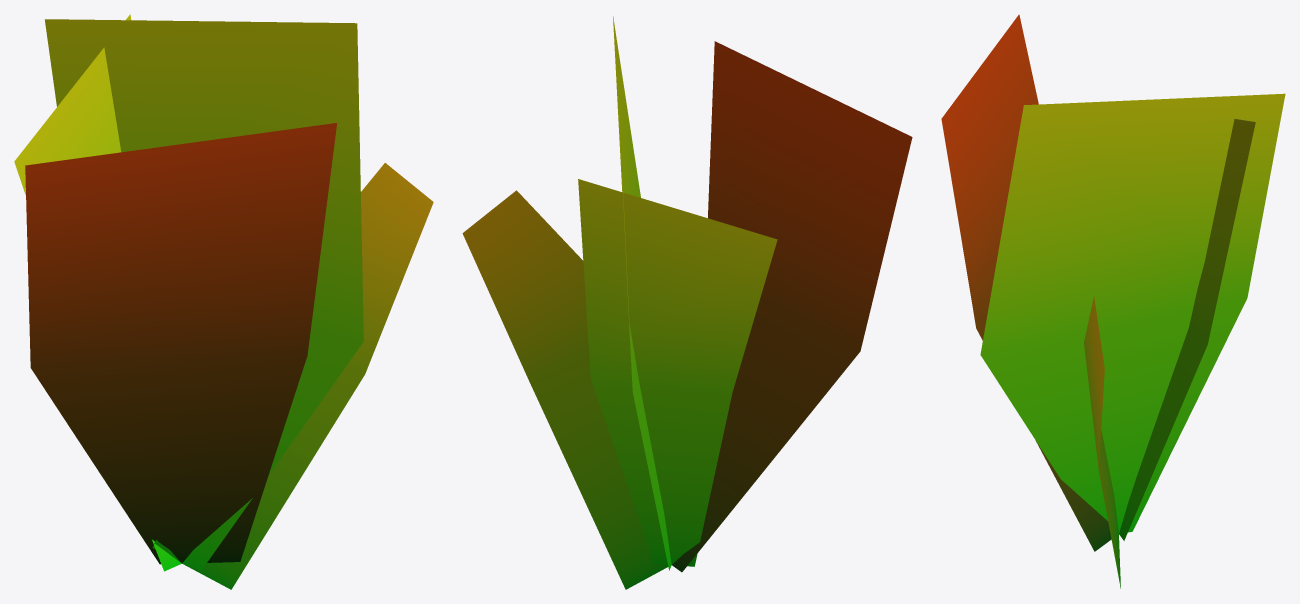
Rendered from Ocean Seaweed_LOD1_Var4_sdDgS.fbx.
3 views of the same model, side by side, from view 1: azimuth 30°, elevation 25°; view 2: azimuth 150°, elevation 25°; view 3: azimuth 270°, elevation 25° (orthographic). The views are drawn at different scales.
Visible parts, largest first — view 1: merge1; view 2: merge1; view 3: merge1.
Part boxes in pixels (x1=…): merge1: x1=14, y1=14, x2=433, y2=589; merge1: x1=462, y1=16, x2=912, y2=589; merge1: x1=941, y1=14, x2=1285, y2=588.
Bounding box in the file's own units: 29.53 × 36.41 × 22.06.
